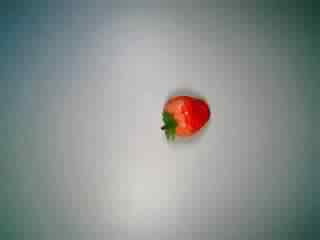strawberry: (151, 81, 217, 147)
